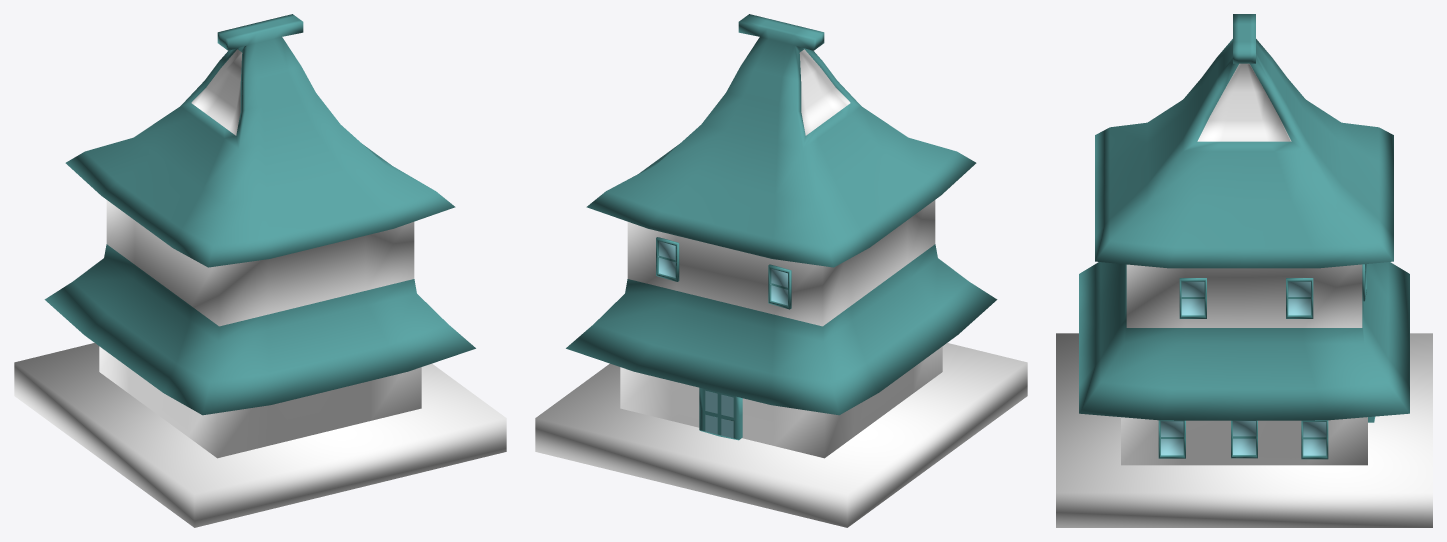
Rendered from japanesehouse1.fbx.
The picture shows the model from 3 angles, left to right: view 1: azimuth 30°, elevation 25°; view 2: azimuth 150°, elevation 25°; view 3: azimuth 270°, elevation 25°; orthographic projection. The views are drawn at different scales.
Visible parts, largest first — view 1: Cube; view 2: Cube, Cube.002, Cube.001, Cube.008, Cube.009; view 3: Cube, Cube.006, Cube.007, Cube.005, Cube.004, Cube.003.
Boxes of the visible parts, x1,y1,x2,y2 form: Cube: (14,14,506,527); Cube: (535,14,1027,527); Cube.002: (699,387,742,439); Cube.001: (705,390,733,438); Cube.008: (768,264,791,309); Cube.009: (656,237,679,281); Cube: (1056,14,1432,527); Cube.006: (1286,278,1313,318); Cube.007: (1179,278,1206,318); Cube.005: (1301,420,1328,459); Cube.004: (1158,420,1185,458); Cube.003: (1231,420,1257,458).
Size of the model in its own units: 171 by 208 by 171.
